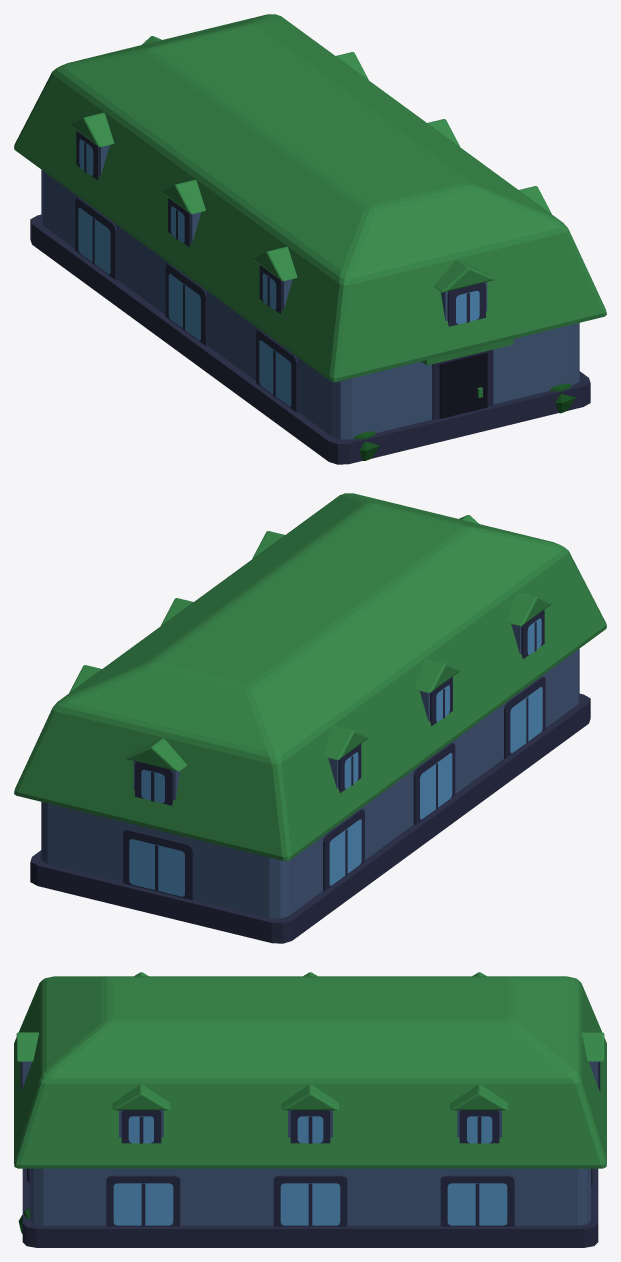
The model's file is house-1x2-1f-mansard-b.glb.
3 views of the same model, one above another, from view 1: azimuth 30°, elevation 25°; view 2: azimuth 150°, elevation 25°; view 3: azimuth 270°, elevation 25° (orthographic). The views are drawn at different scales.
Visible parts, largest first — view 1: house-1x2-1f-mansard-b; view 2: house-1x2-1f-mansard-b; view 3: house-1x2-1f-mansard-b.
Part boxes in pixels (x1,y1,x2,y2): house-1x2-1f-mansard-b: (14, 14, 606, 464); house-1x2-1f-mansard-b: (14, 493, 606, 943); house-1x2-1f-mansard-b: (14, 972, 606, 1247).
Bounding box in the file's own units: 0.9876 × 0.7026 × 1.99.
Materials: 1 (1 with a texture image).
